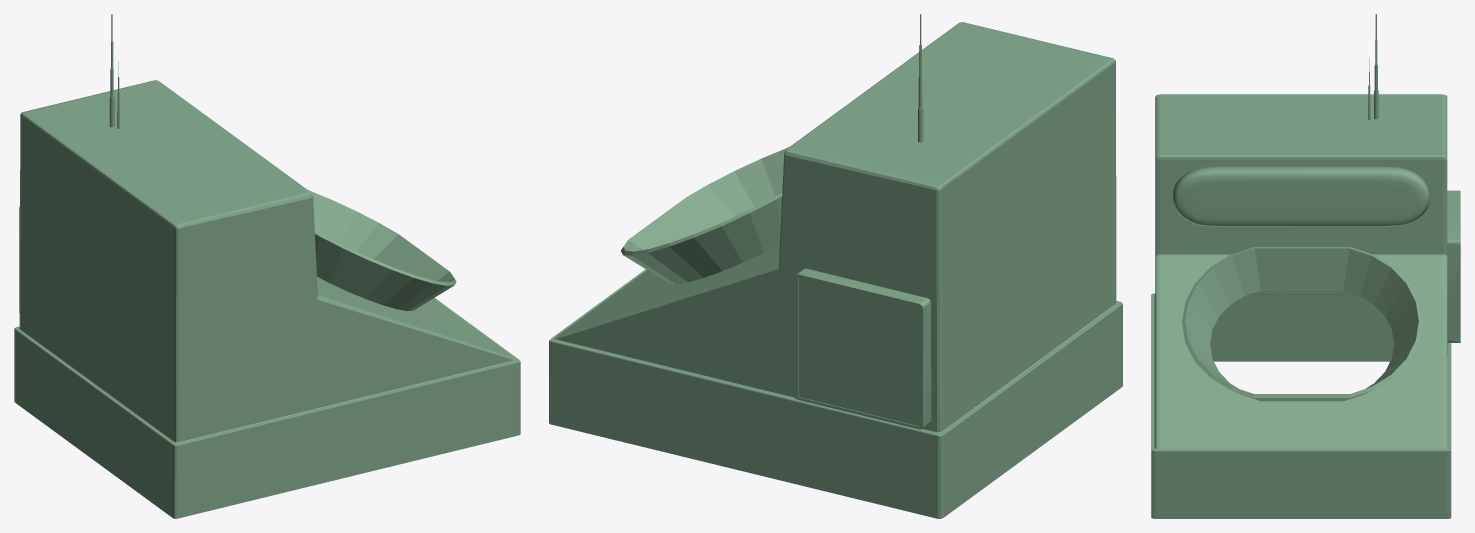
File: Fabricator0221.fbx
The picture shows the model from 3 angles, left to right: view 1: azimuth 30°, elevation 25°; view 2: azimuth 150°, elevation 25°; view 3: azimuth 270°, elevation 25°; orthographic projection. The views are drawn at different scales.
Parts seen in each view (by area): view 1: Fabricator, Tratt; view 2: Fabricator, Hatch, Tratt, Hatch_frame; view 3: Fabricator, Fabricator_display, Tratt, Hatch_frame, Antenna_L.
Part boxes in pixels (bbox=[...]): Fabricator: bbox=[14, 80, 520, 518]; Tratt: bbox=[308, 190, 456, 310]; Fabricator: bbox=[549, 22, 1122, 518]; Hatch: bbox=[798, 278, 919, 426]; Tratt: bbox=[621, 147, 788, 284]; Hatch_frame: bbox=[794, 268, 931, 429]; Fabricator: bbox=[1151, 94, 1451, 518]; Fabricator_display: bbox=[1172, 166, 1430, 226]; Tratt: bbox=[1182, 247, 1422, 401]; Hatch_frame: bbox=[1447, 190, 1460, 342]; Antenna_L: bbox=[1374, 14, 1378, 119].
Bounding box in the file's own units: 359 × 398 × 298.
